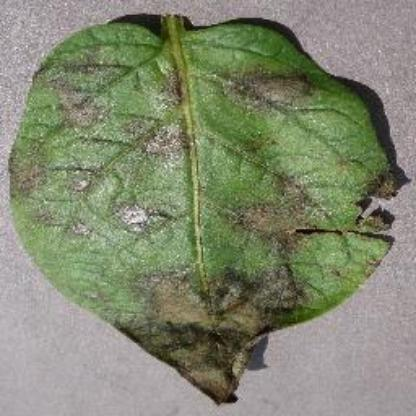Late-Blight: (3, 12, 403, 402)
